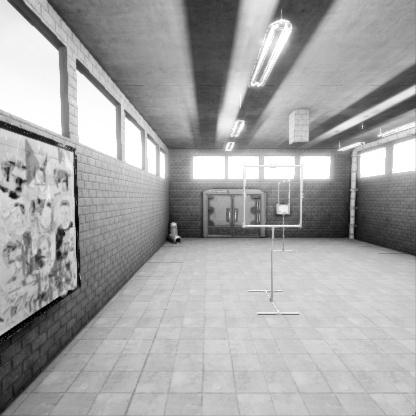gate: (244, 192, 305, 252), (278, 203, 290, 237)
